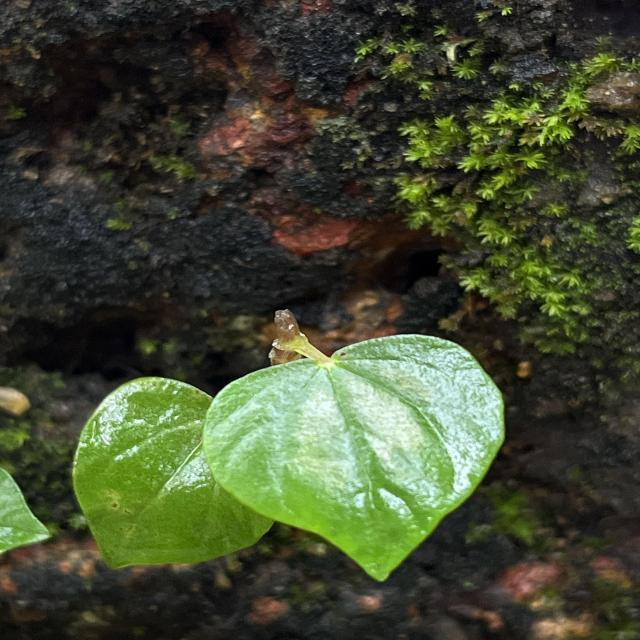Peperomia pellucida: (202, 332, 509, 586)
